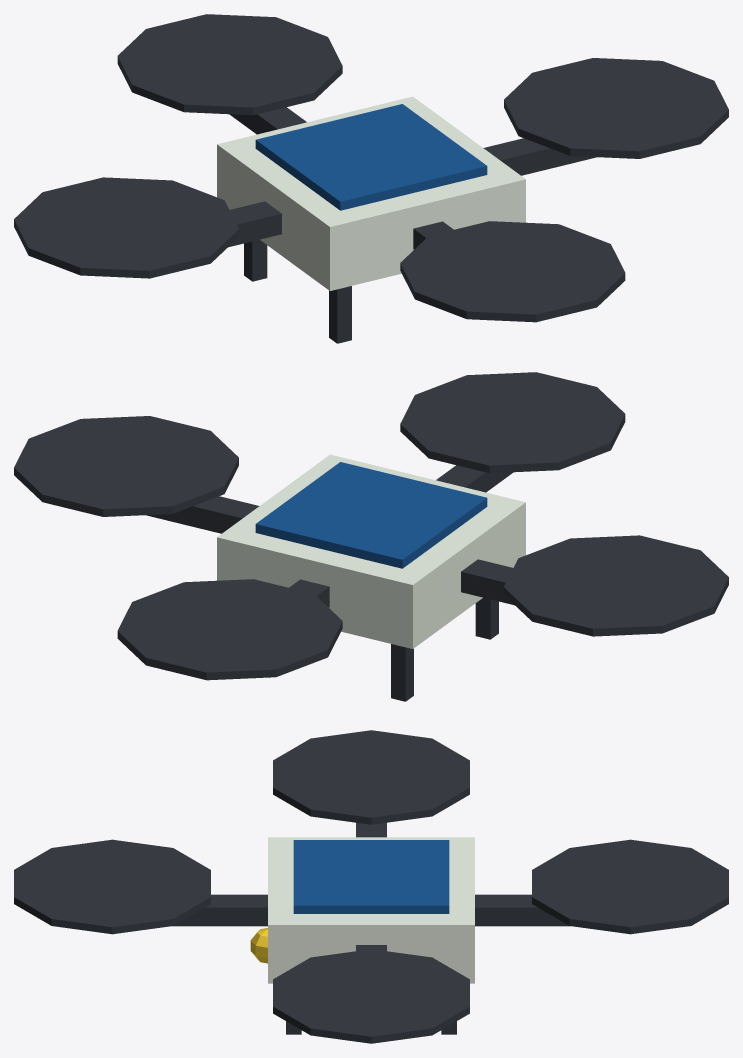
Rendered from Drone.obj.
3 renders of one model, top to bottom at view 1: azimuth 30°, elevation 25°; view 2: azimuth 150°, elevation 25°; view 3: azimuth 270°, elevation 25°, orthographic. The views are drawn at different scales.
Parts seen in each view (by area): view 1: Drone; view 2: Drone; view 3: Drone.
Boxes of the visible parts, box(x1,y1,x2,y2) form: Drone: box(14, 14, 728, 343); Drone: box(14, 372, 728, 701); Drone: box(14, 730, 728, 1043).
Size of the model in its own units: 2.8 by 0.535 by 2.76.
